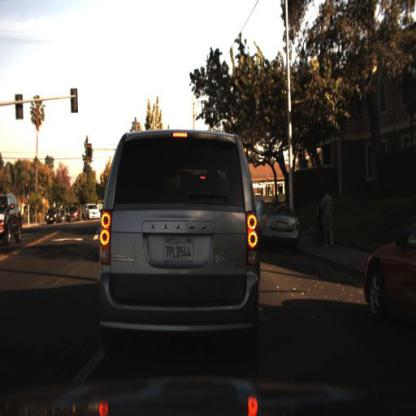car: (98, 127, 262, 359), (364, 215, 416, 344), (254, 199, 301, 243), (2, 195, 24, 248), (102, 194, 123, 231), (83, 200, 104, 223), (47, 208, 61, 227), (66, 207, 80, 224)
pedestrian: (313, 181, 342, 260), (318, 188, 332, 248)
trafficLight-Red: (238, 140, 252, 165), (23, 176, 32, 193)
trafficLight-RedLeft: (86, 143, 94, 166), (24, 182, 32, 202)
